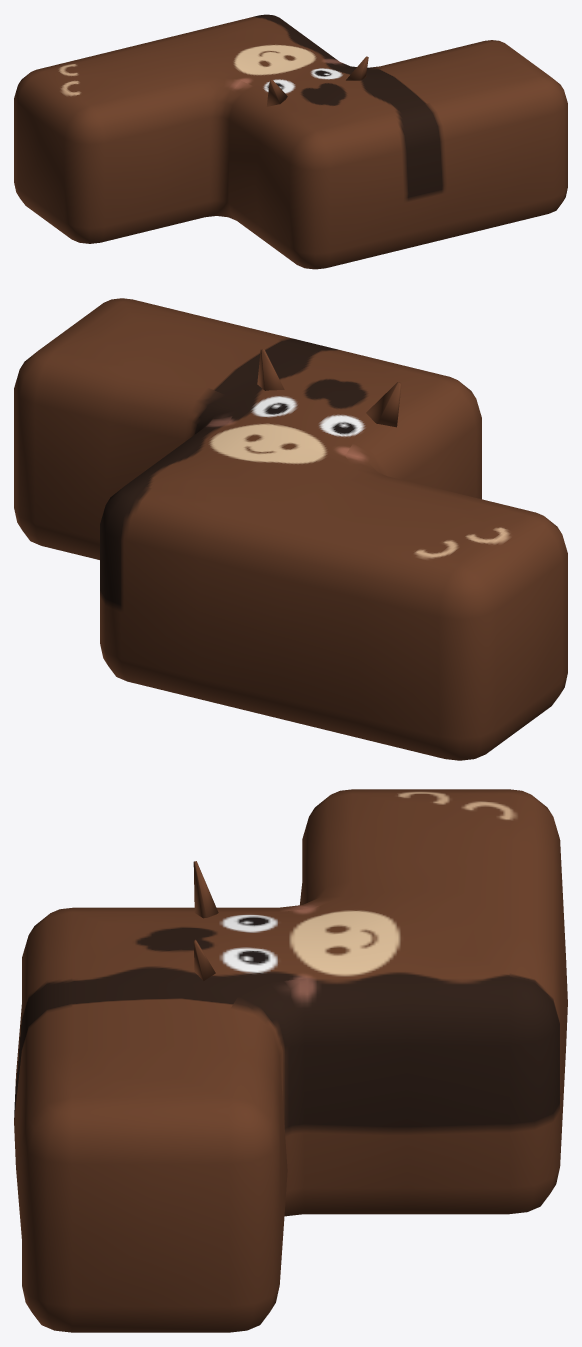
Rendered from Horse_SMirror.fbx.
3 views of the same model, one above another, from view 1: azimuth 30°, elevation 25°; view 2: azimuth 150°, elevation 25°; view 3: azimuth 270°, elevation 25° (orthographic). The views are drawn at different scales.
Visible parts, largest first — view 1: Horse_SMirror; view 2: Horse_SMirror; view 3: Horse_SMirror.
Part boxes in pixels (x1,y1,x2,y2): Horse_SMirror: (14,14,567,269); Horse_SMirror: (14,298,567,760); Horse_SMirror: (14,789,567,1332).
Bounding box in the file's own units: 2.98 × 1.04 × 1.98.
1 material, 1 textured.
